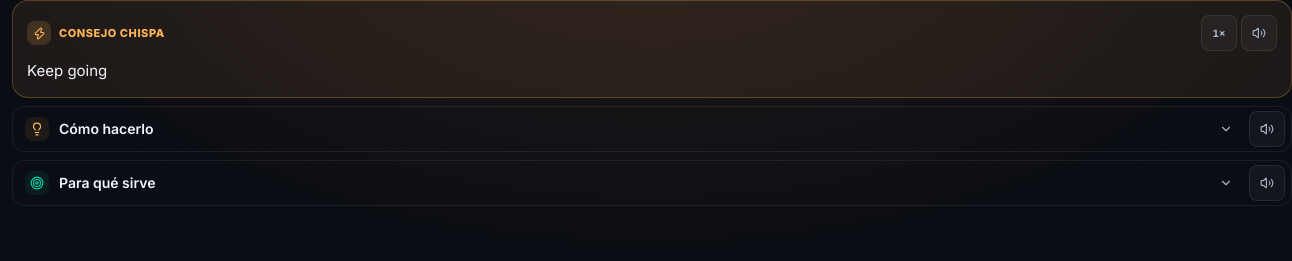
Test: ExerciseExplainer › renders benefits from explicit benefits field
The width and height of the screenshot is (1292, 261).
Click the button "Para qué sirve" at (107, 183), box [13, 161, 1245, 205]
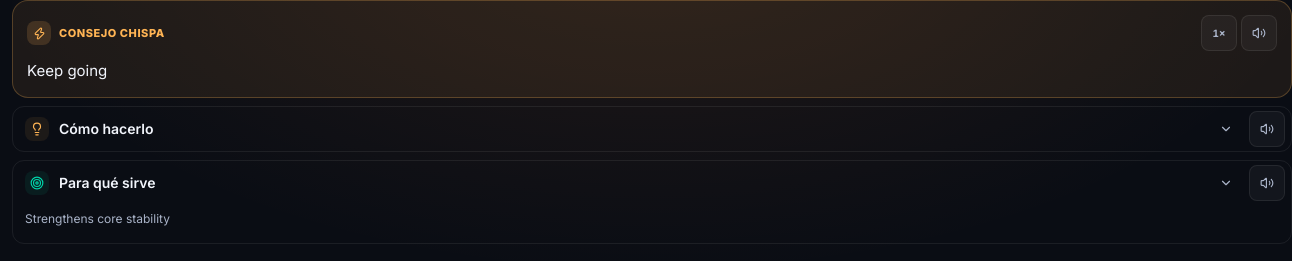
Check: the text "Strengthens core stability" is shown, box [25, 211, 170, 226]
